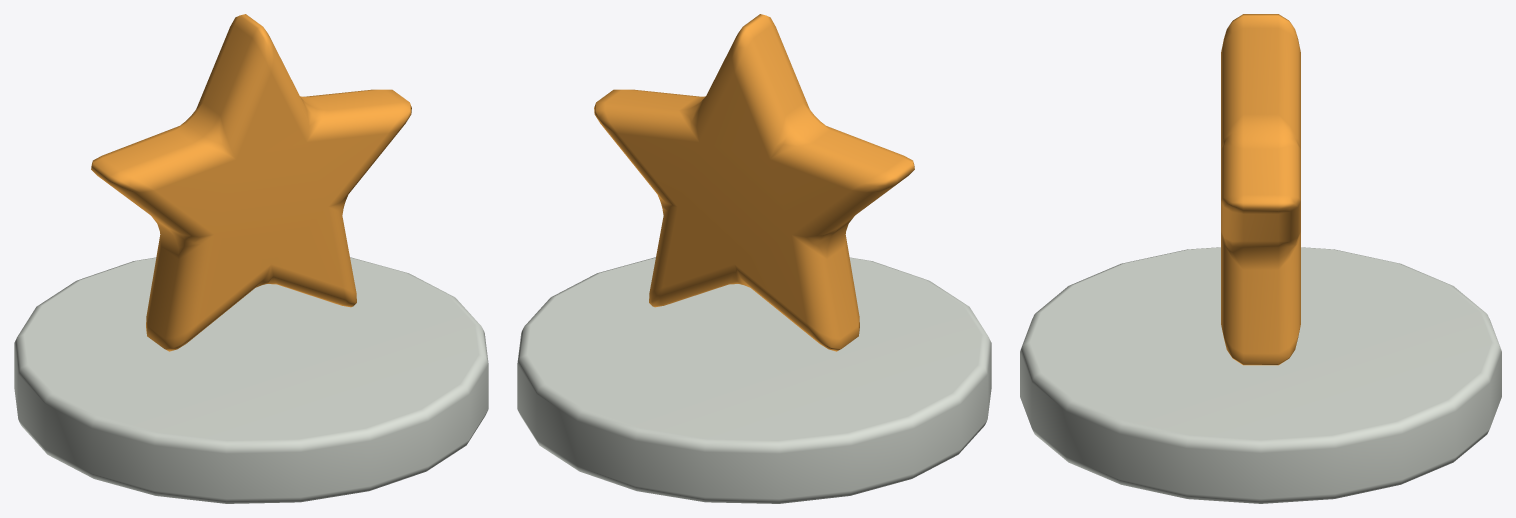
File: bonus_star.glb
The picture shows the model from 3 angles, left to right: view 1: azimuth 30°, elevation 25°; view 2: azimuth 150°, elevation 25°; view 3: azimuth 270°, elevation 25°; orthographic projection.
Visible parts, largest first — view 1: Bonus_rounded_plinth006, Lucky_star; view 2: Bonus_rounded_plinth006, Lucky_star; view 3: Bonus_rounded_plinth006, Lucky_star.
Part boxes in pixels (<box>): Bonus_rounded_plinth006: <box>14,257,488,503</box>; Lucky_star: <box>91,14,411,351</box>; Bonus_rounded_plinth006: <box>517,257,991,503</box>; Lucky_star: <box>594,14,914,351</box>; Bonus_rounded_plinth006: <box>1020,247,1501,503</box>; Lucky_star: <box>1221,14,1300,365</box>.
Bounding box in the file's own units: 0.96 × 0.8586 × 0.96.
